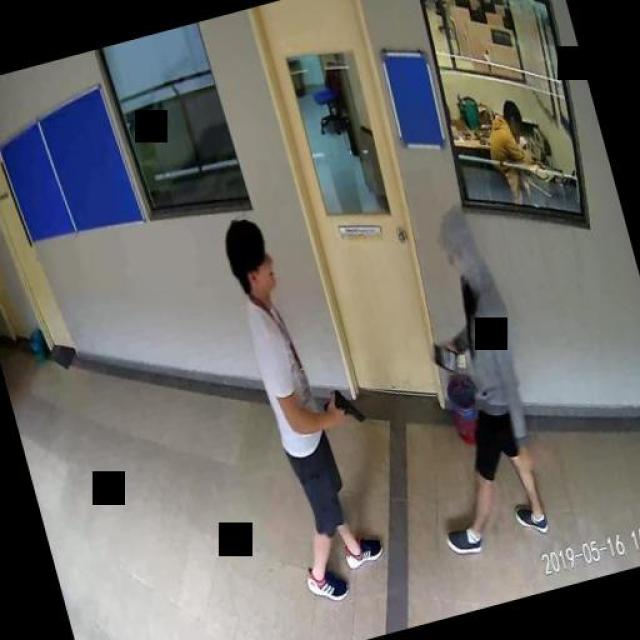gun: (317, 381, 365, 431)
